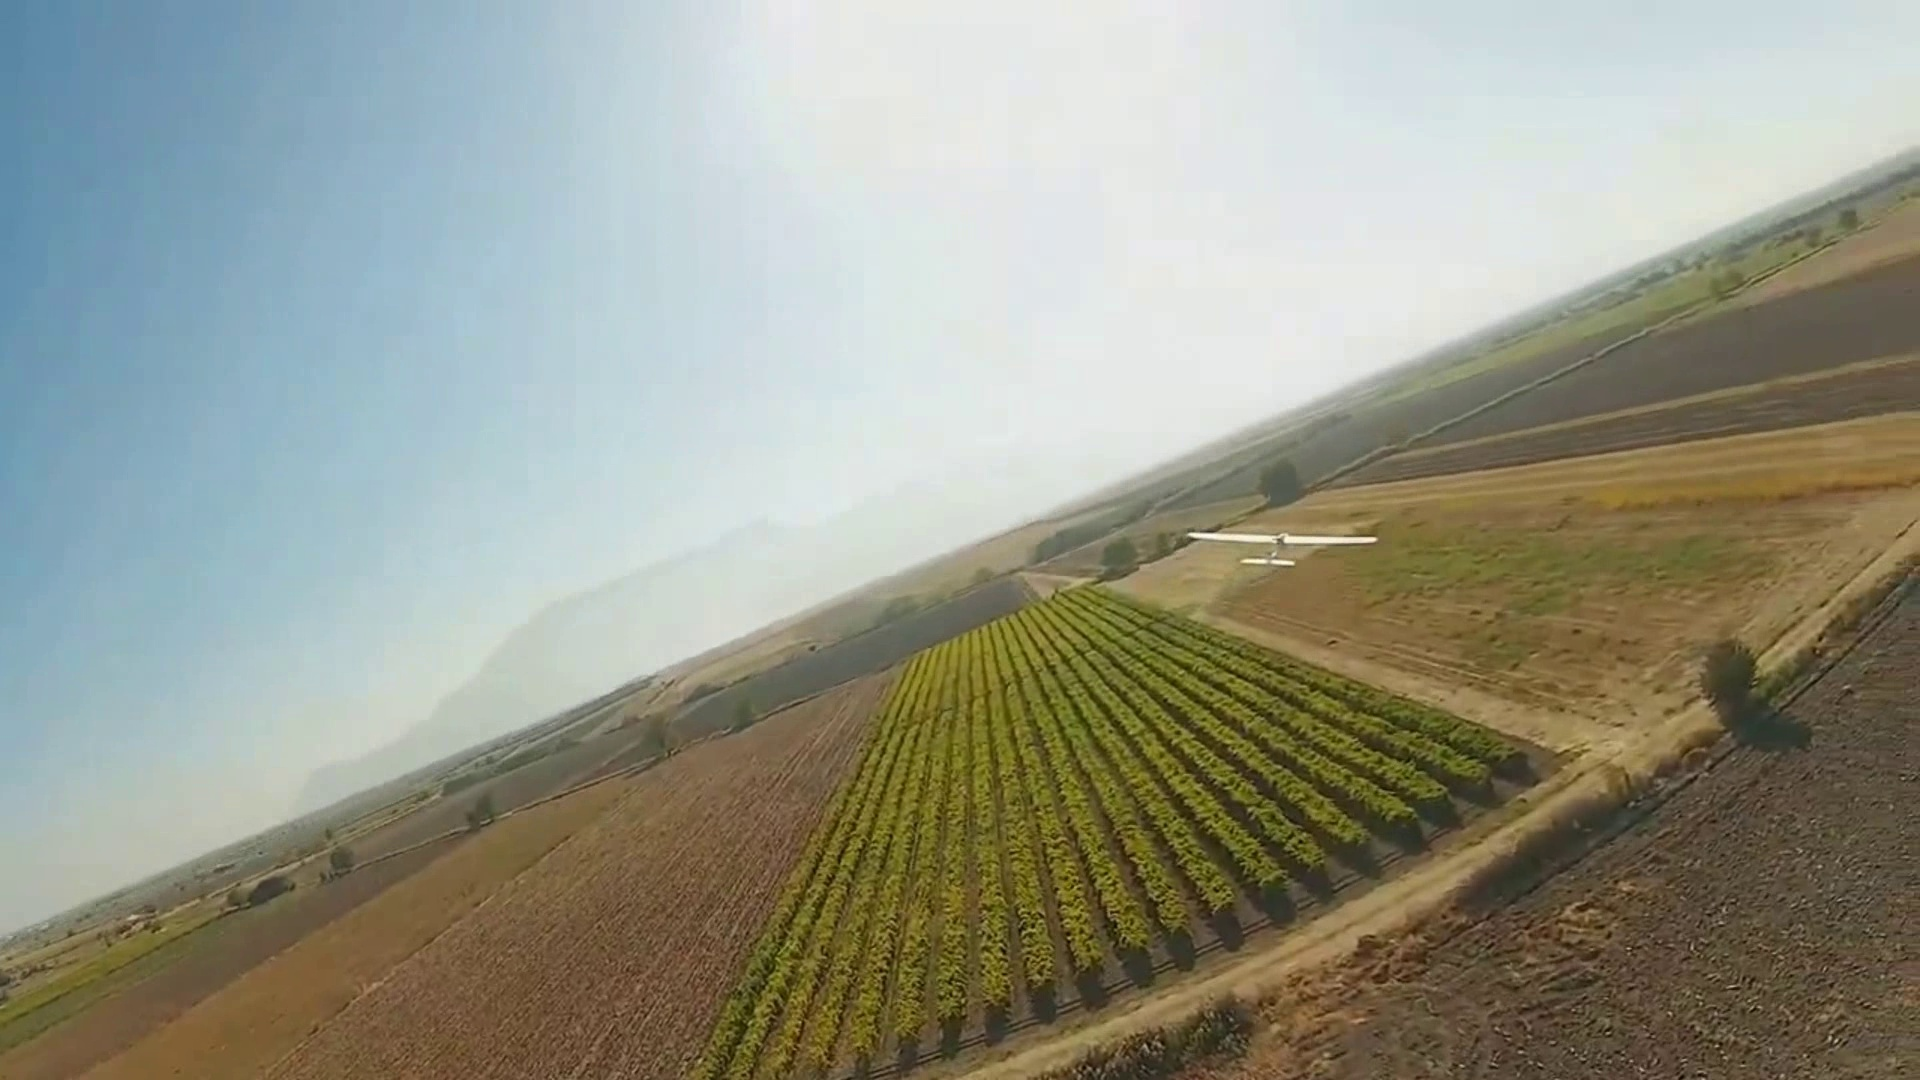airplane: (7, 164, 1915, 1054)
